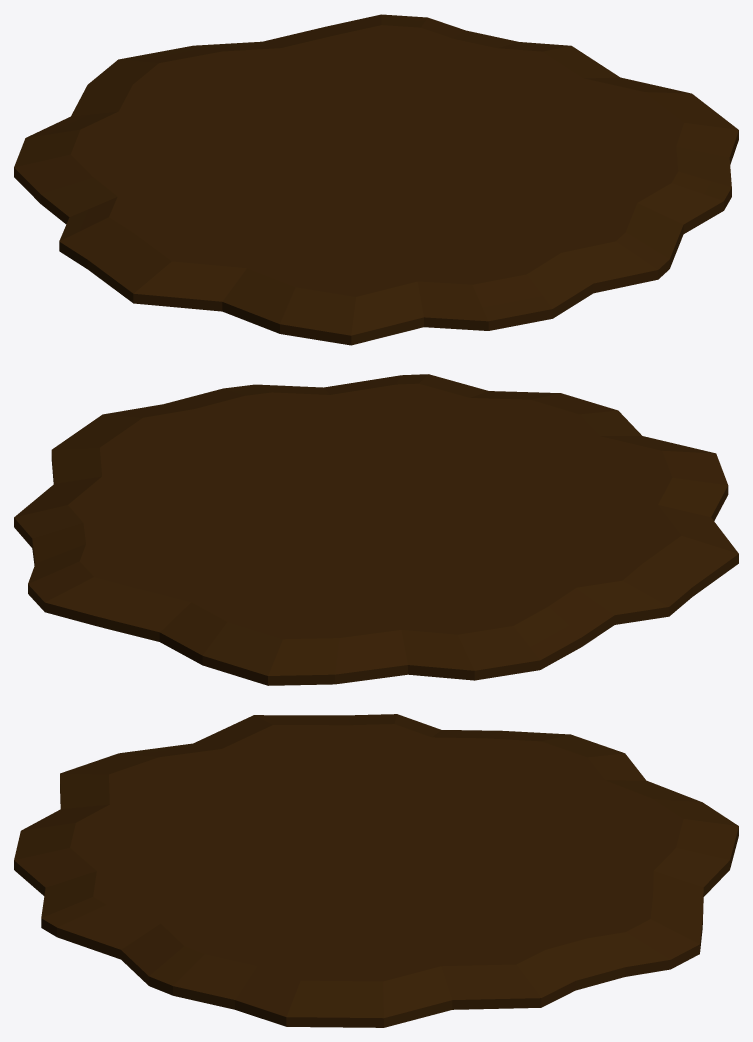
The model's file is rock.glb.
3 views of the same model, one above another, from view 1: azimuth 30°, elevation 25°; view 2: azimuth 150°, elevation 25°; view 3: azimuth 270°, elevation 25° (orthographic).
Parts seen in each view (by area): view 1: Cylinder; view 2: Cylinder; view 3: Cylinder.
Part boxes in pixels (<box>): Cylinder: <box>14,14,738,345</box>; Cylinder: <box>14,374,738,685</box>; Cylinder: <box>14,714,738,1027</box>.
Bounding box in the file's own units: 3.56 × 0.2 × 3.59.
